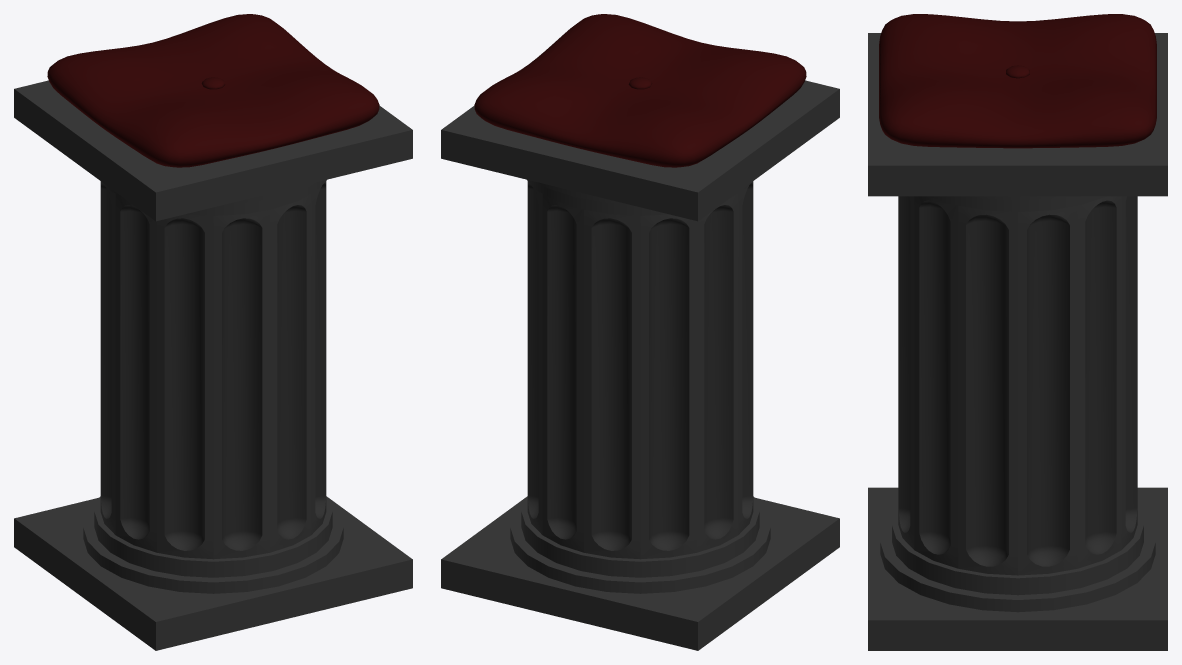
Rendered from SM_Warehouse_Pedastal.fbx.
The picture shows the model from 3 angles, left to right: view 1: azimuth 30°, elevation 25°; view 2: azimuth 150°, elevation 25°; view 3: azimuth 270°, elevation 25°; orthographic projection. The views are drawn at different scales.
Visible parts, largest first — view 1: SM_Warehouse_Pedastal; view 2: SM_Warehouse_Pedastal; view 3: SM_Warehouse_Pedastal.
Part boxes in pixels (left/top/right/bottom): SM_Warehouse_Pedastal: left=14, top=14, right=412, bottom=650; SM_Warehouse_Pedastal: left=441, top=14, right=839, bottom=650; SM_Warehouse_Pedastal: left=868, top=14, right=1167, bottom=650.
Size of the model in its own units: 45.21 by 83.2 by 43.17.
